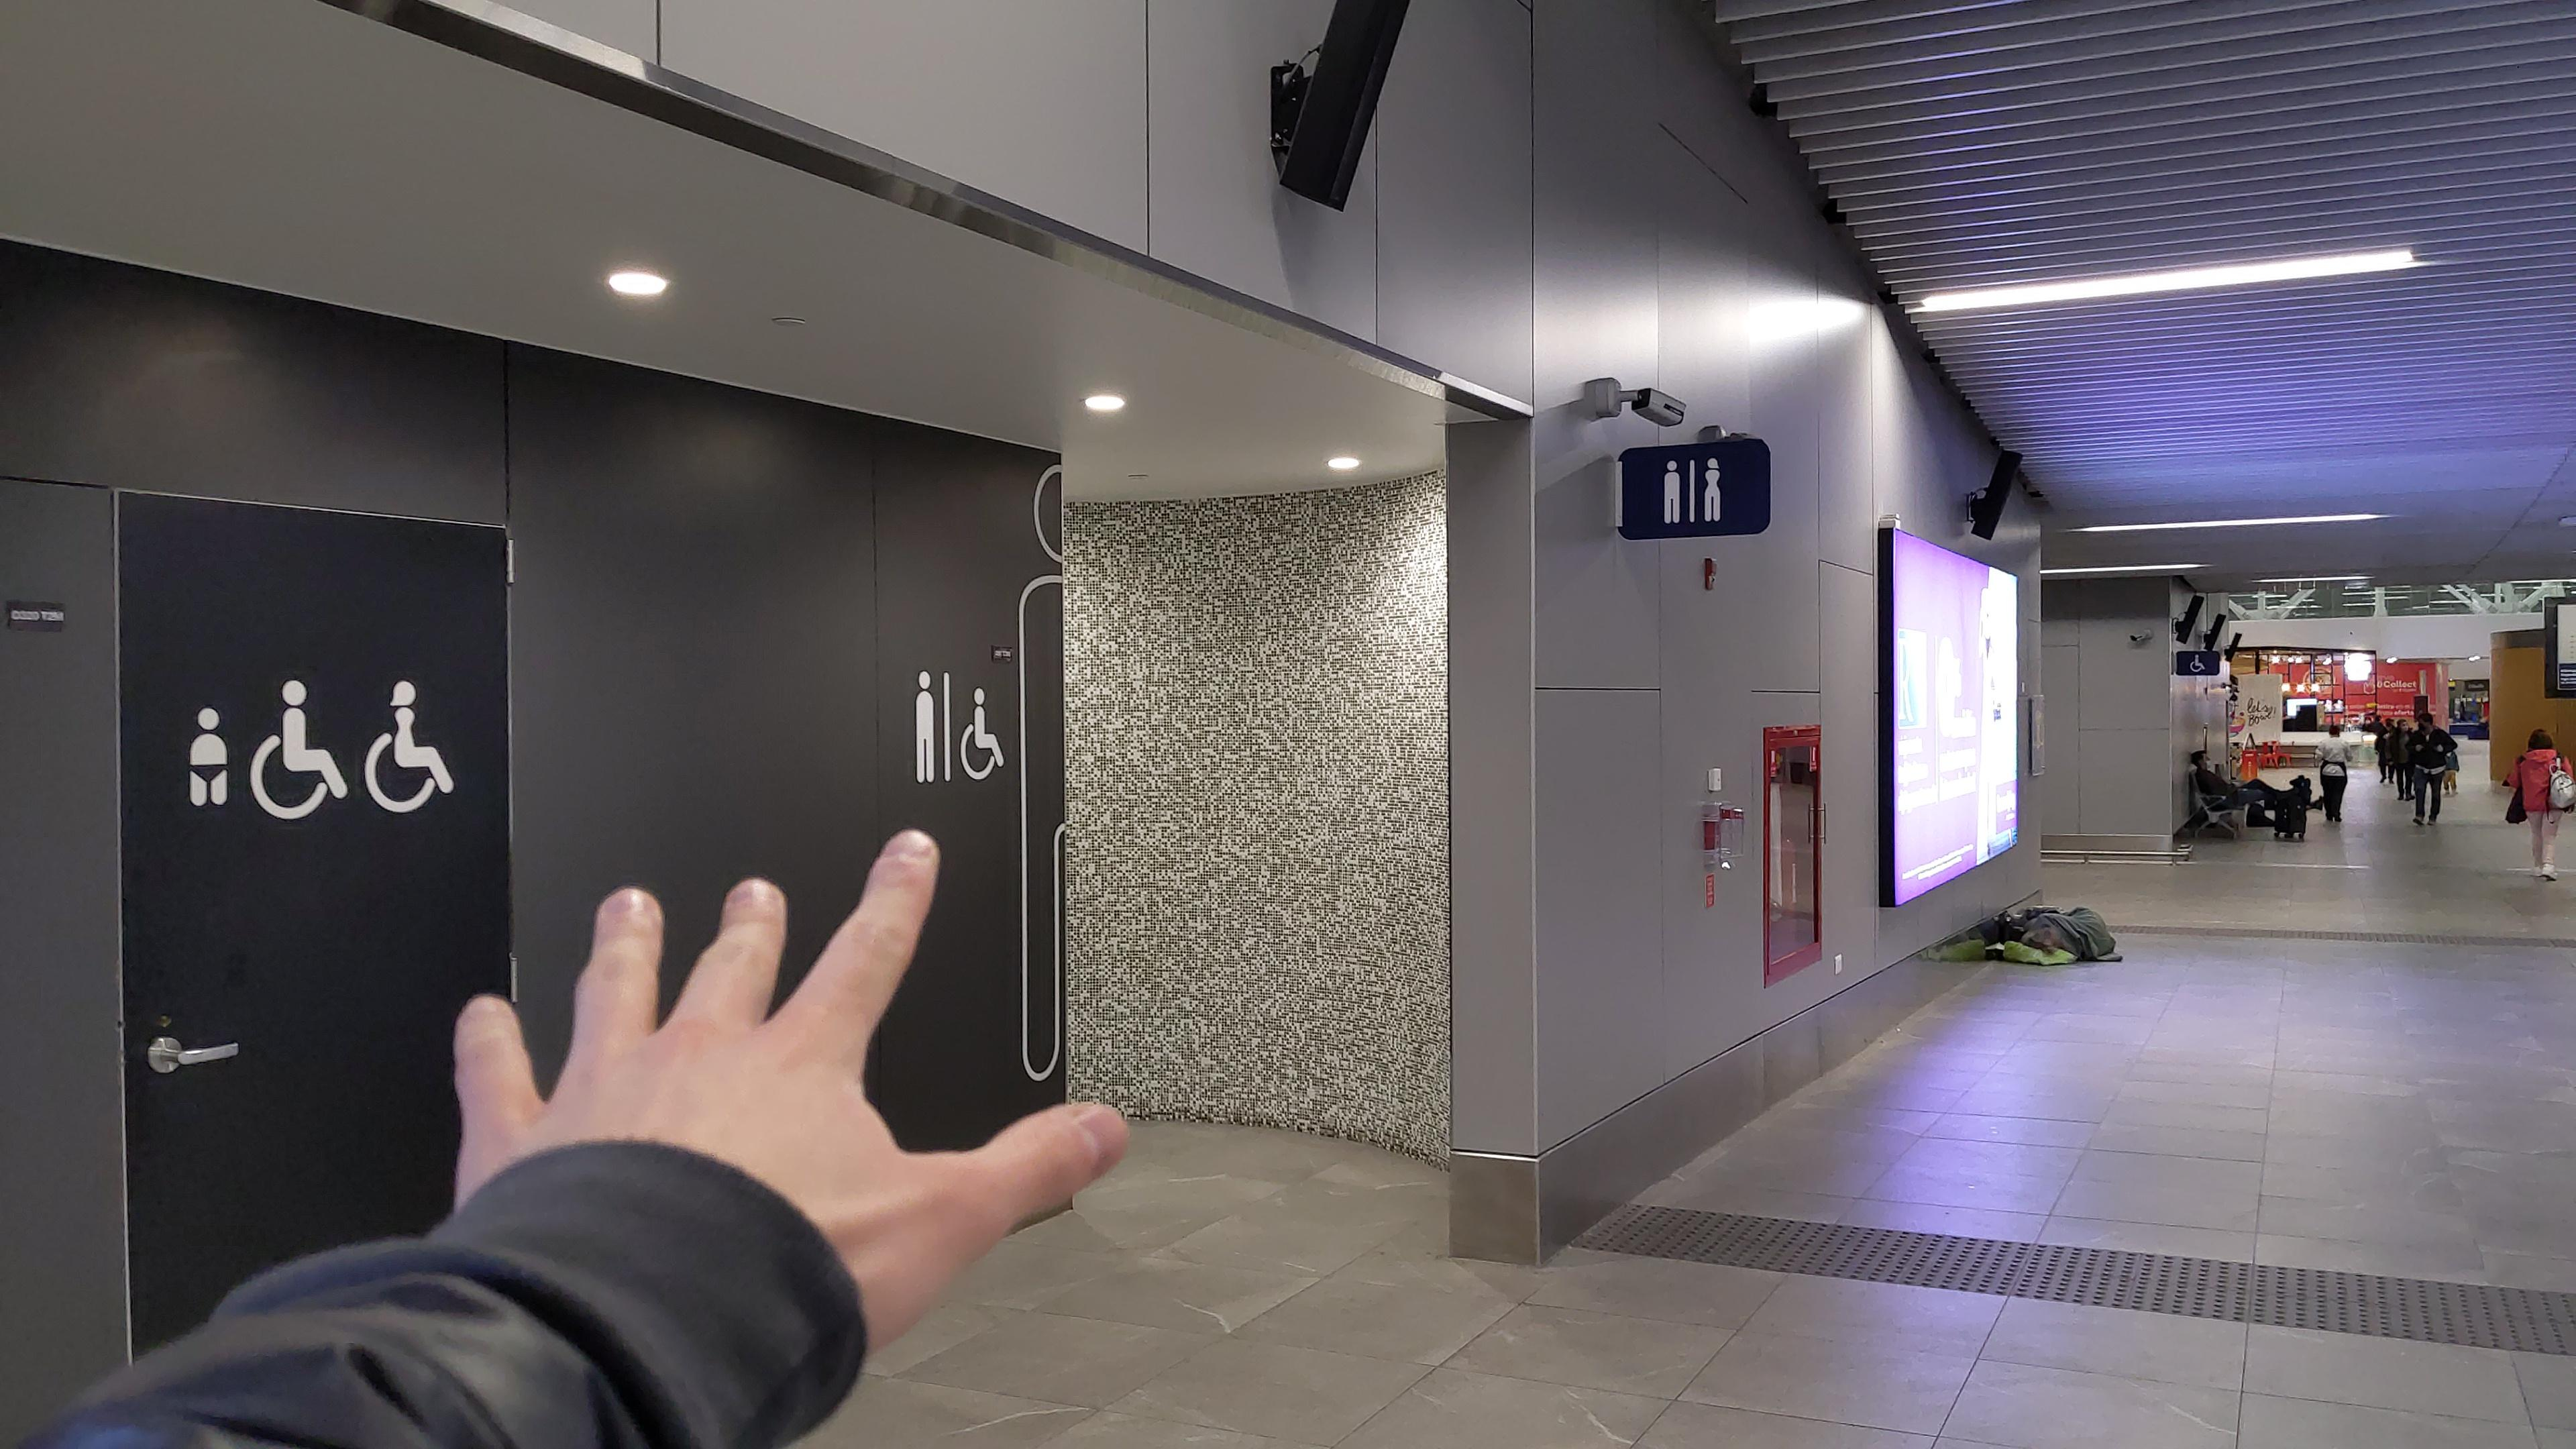bathrooms: (1660, 453, 1723, 525)
handicapped symbol: (248, 678, 349, 821), (363, 679, 456, 814), (961, 688, 1007, 780)
